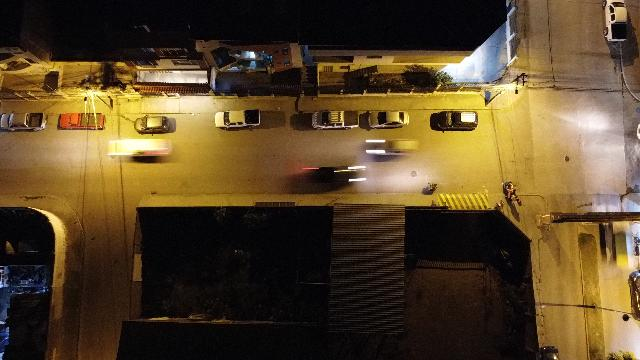Vehiculo: (602, 1, 632, 45), (57, 112, 107, 132), (312, 110, 361, 130), (214, 109, 260, 130), (0, 112, 48, 132), (436, 110, 478, 132), (368, 110, 410, 130), (134, 115, 170, 135)
